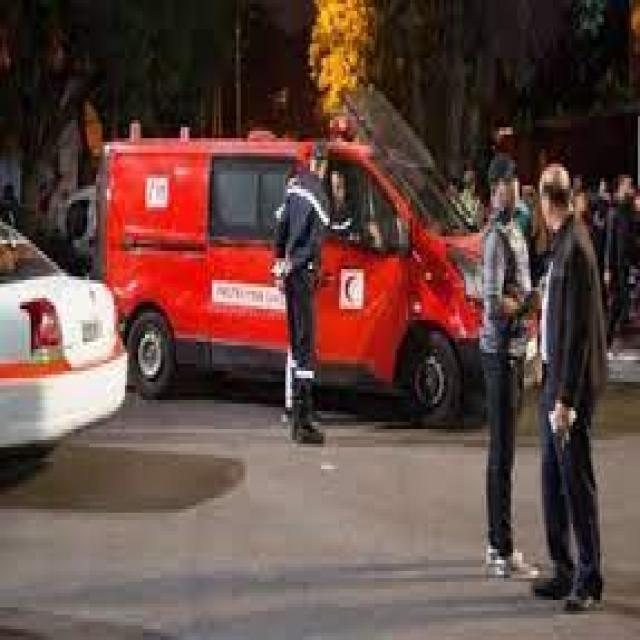ambulance: (107, 132, 482, 408)
